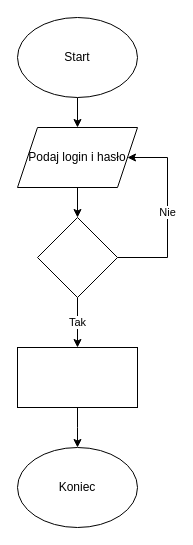
This 193x545 diagram has some shape labels left out. The box of each missing label's shape, as (x1, y1, x2, y2) in pixels:
Czy dane są poprawne?: (36, 216, 118, 298)
Zaloguj: (16, 346, 138, 408)
